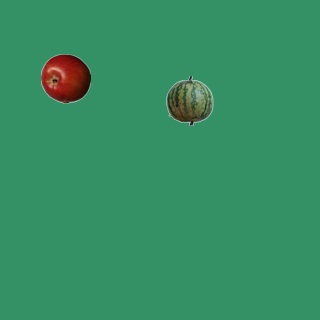Apple Braeburn: (40, 53, 90, 103)
Watermelon: (164, 75, 214, 125)
